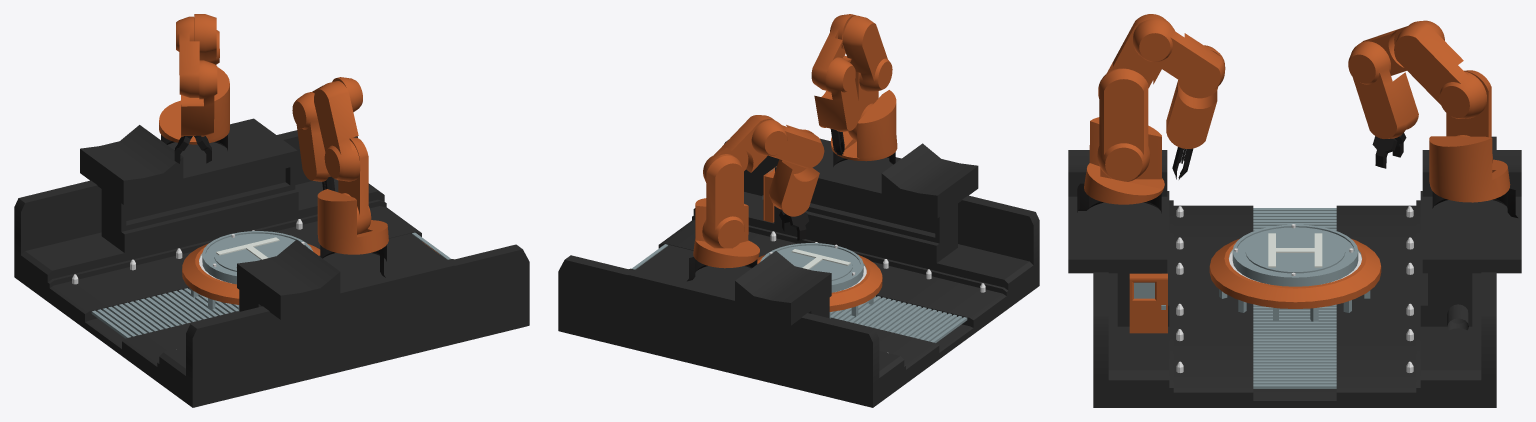
The model's file is poi_pitstop.fbx.
3 renders of one model, left to right at view 1: azimuth 30°, elevation 25°; view 2: azimuth 150°, elevation 25°; view 3: azimuth 270°, elevation 25°, orthographic. The views are drawn at different scales.
Parts seen in each view (by area): view 1: Cube, Circle.002, Plane, Cylinder.003, Cylinder, Cylinder.005, Cylinder.010, Cylinder.006, Cylinder.009, Cylinder.002, Cylinder.008, Cylinder.004; view 2: Cube, Circle.002, Plane, Cylinder.007, Cylinder, Cylinder.003, Cylinder.005, Cylinder.009, Cylinder.010, Cylinder.006, Cylinder.008, Cylinder.004 (+2 smaller); view 3: Cube, Circle.002, Plane, Cylinder.002, Cylinder.008, Cylinder.006, Cylinder.010, Cylinder.004, Cylinder, Cylinder.005, Cube.004, Cylinder.003 (+8 smaller).
Part boxes in pixels (x1,y1,x2,y2): Cube: (14, 118, 529, 407); Circle.002: (182, 231, 320, 304); Plane: (91, 232, 450, 338); Cylinder.003: (314, 81, 360, 181); Cylinder: (317, 189, 388, 254); Cylinder.005: (292, 92, 330, 181); Cylinder.010: (181, 60, 217, 136); Cylinder.006: (159, 67, 229, 144); Cylinder.009: (176, 16, 199, 97); Cylinder.002: (338, 137, 371, 234); Cylinder.008: (194, 14, 219, 64); Cylinder.004: (312, 77, 362, 112); Cube: (558, 138, 1039, 407); Circle.002: (757, 243, 882, 311); Plane: (631, 244, 967, 342); Cylinder.007: (702, 155, 744, 248); Cylinder: (830, 90, 897, 161); Cylinder.003: (842, 15, 892, 91); Cylinder.005: (814, 57, 860, 131); Cylinder.009: (751, 120, 824, 167); Cylinder.010: (768, 129, 819, 216); Cylinder.006: (693, 198, 759, 268); Cylinder.008: (703, 115, 774, 182); Cylinder.004: (811, 14, 855, 90); Cube: (1068, 136, 1521, 407); Circle.002: (1209, 224, 1381, 308); Plane: (1253, 208, 1336, 388); Cylinder.002: (1097, 69, 1150, 181); Cylinder.008: (1394, 22, 1486, 118); Cylinder.006: (1429, 136, 1510, 202); Cylinder.010: (1348, 41, 1418, 138); Cylinder.004: (1133, 18, 1224, 93); Cylinder: (1084, 117, 1164, 204); Cylinder.005: (1166, 45, 1225, 148); Cube.004: (1129, 273, 1167, 333); Cylinder.003: (1098, 14, 1171, 98).
Size of the model in its own units: 633 by 477 by 653.
